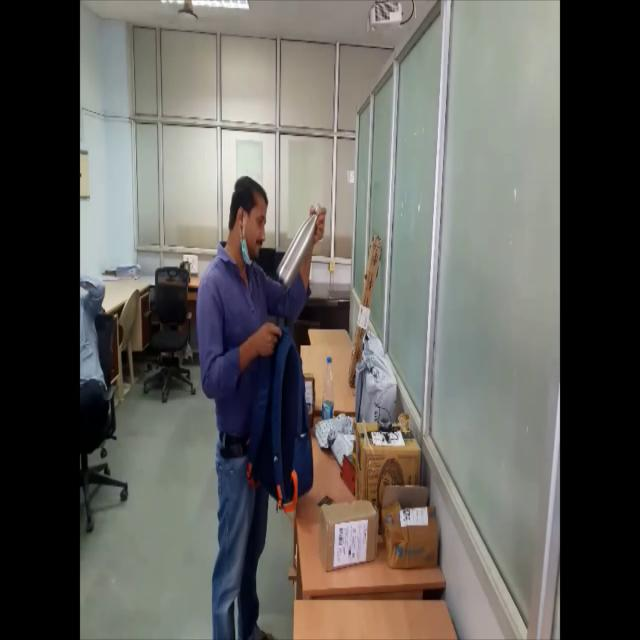shoplifting: (195, 178, 331, 640)
